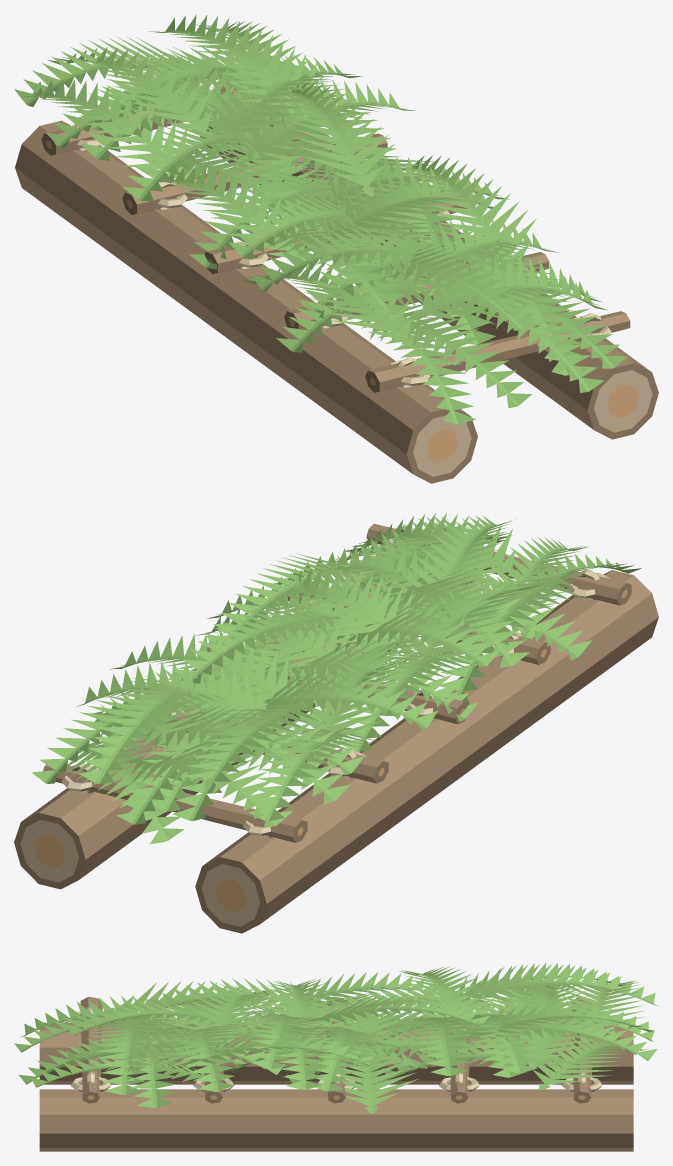
File: bed_basic_final_native.fbx
The picture shows the model from 3 angles, top to bottom: view 1: azimuth 30°, elevation 25°; view 2: azimuth 150°, elevation 25°; view 3: azimuth 270°, elevation 25°; orthographic projection. The views are drawn at different scales.
Visible parts, largest first — view 1: log_00, log_02, log_01, leaf_49, leaf_46, leaf_24, leaf_31, leaf_47, leaf_39, leaf_19, leaf_27, leaf_40 (+41 smaller); view 2: log_02, log_00, log_03, leaf_47, leaf_46, leaf_32, leaf_42, leaf_34, leaf_49, leaf_40, leaf_39, leaf_31 (+35 smaller); view 3: log_03, log_01, log_02, log_00, leaf_19, leaf_47, leaf_27, leaf_39, leaf_21, leaf_40, leaf_09, leaf_46 (+48 smaller).
Part boxes in pixels (x1=…): log_00: x1=209, y1=266, x2=477, y2=483; log_02: x1=15, y1=120, x2=267, y2=329; log_01: x1=393, y1=222, x2=658, y2=439; leaf_49: x1=276, y1=81, x2=395, y2=196; leaf_46: x1=149, y1=14, x2=324, y2=121; leaf_24: x1=401, y1=155, x2=536, y2=273; leaf_31: x1=21, y1=79, x2=199, y2=188; leaf_47: x1=48, y1=47, x2=213, y2=139; leaf_39: x1=236, y1=80, x2=414, y2=166; leaf_19: x1=410, y1=259, x2=608, y2=324; leaf_27: x1=387, y1=217, x2=559, y2=293; leaf_40: x1=122, y1=119, x2=274, y2=201; log_02: x1=195, y1=716, x2=461, y2=933; log_00: x1=401, y1=570, x2=658, y2=781; log_03: x1=14, y1=679, x2=275, y2=889; leaf_47: x1=172, y1=702, x2=319, y2=820; leaf_46: x1=79, y1=677, x2=226, y2=784; leaf_32: x1=258, y1=566, x2=415, y2=649; leaf_42: x1=76, y1=660, x2=265, y2=723; leaf_34: x1=386, y1=569, x2=529, y2=667; leaf_49: x1=169, y1=603, x2=341, y2=691; leaf_40: x1=260, y1=670, x2=437, y2=730; leaf_39: x1=110, y1=634, x2=306, y2=711; leaf_31: x1=248, y1=727, x2=376, y2=821; log_03: x1=334, y1=1089, x2=633, y2=1151; log_01: x1=39, y1=1089, x2=334, y2=1151; log_02: x1=346, y1=1022, x2=633, y2=1084; log_00: x1=39, y1=1022, x2=327, y2=1084; leaf_19: x1=86, y1=1015, x2=183, y2=1094; leaf_47: x1=454, y1=964, x2=657, y2=1005; leaf_27: x1=151, y1=1022, x2=246, y2=1091; leaf_39: x1=391, y1=1016, x2=480, y2=1075; leaf_21: x1=254, y1=979, x2=350, y2=1038; leaf_40: x1=400, y1=966, x2=501, y2=1030; leaf_09: x1=533, y1=1037, x2=646, y2=1090; leaf_46: x1=450, y1=1002, x2=653, y2=1039.
Bounding box in the file's own units: 0.5395 × 0.2891 × 1.36.
